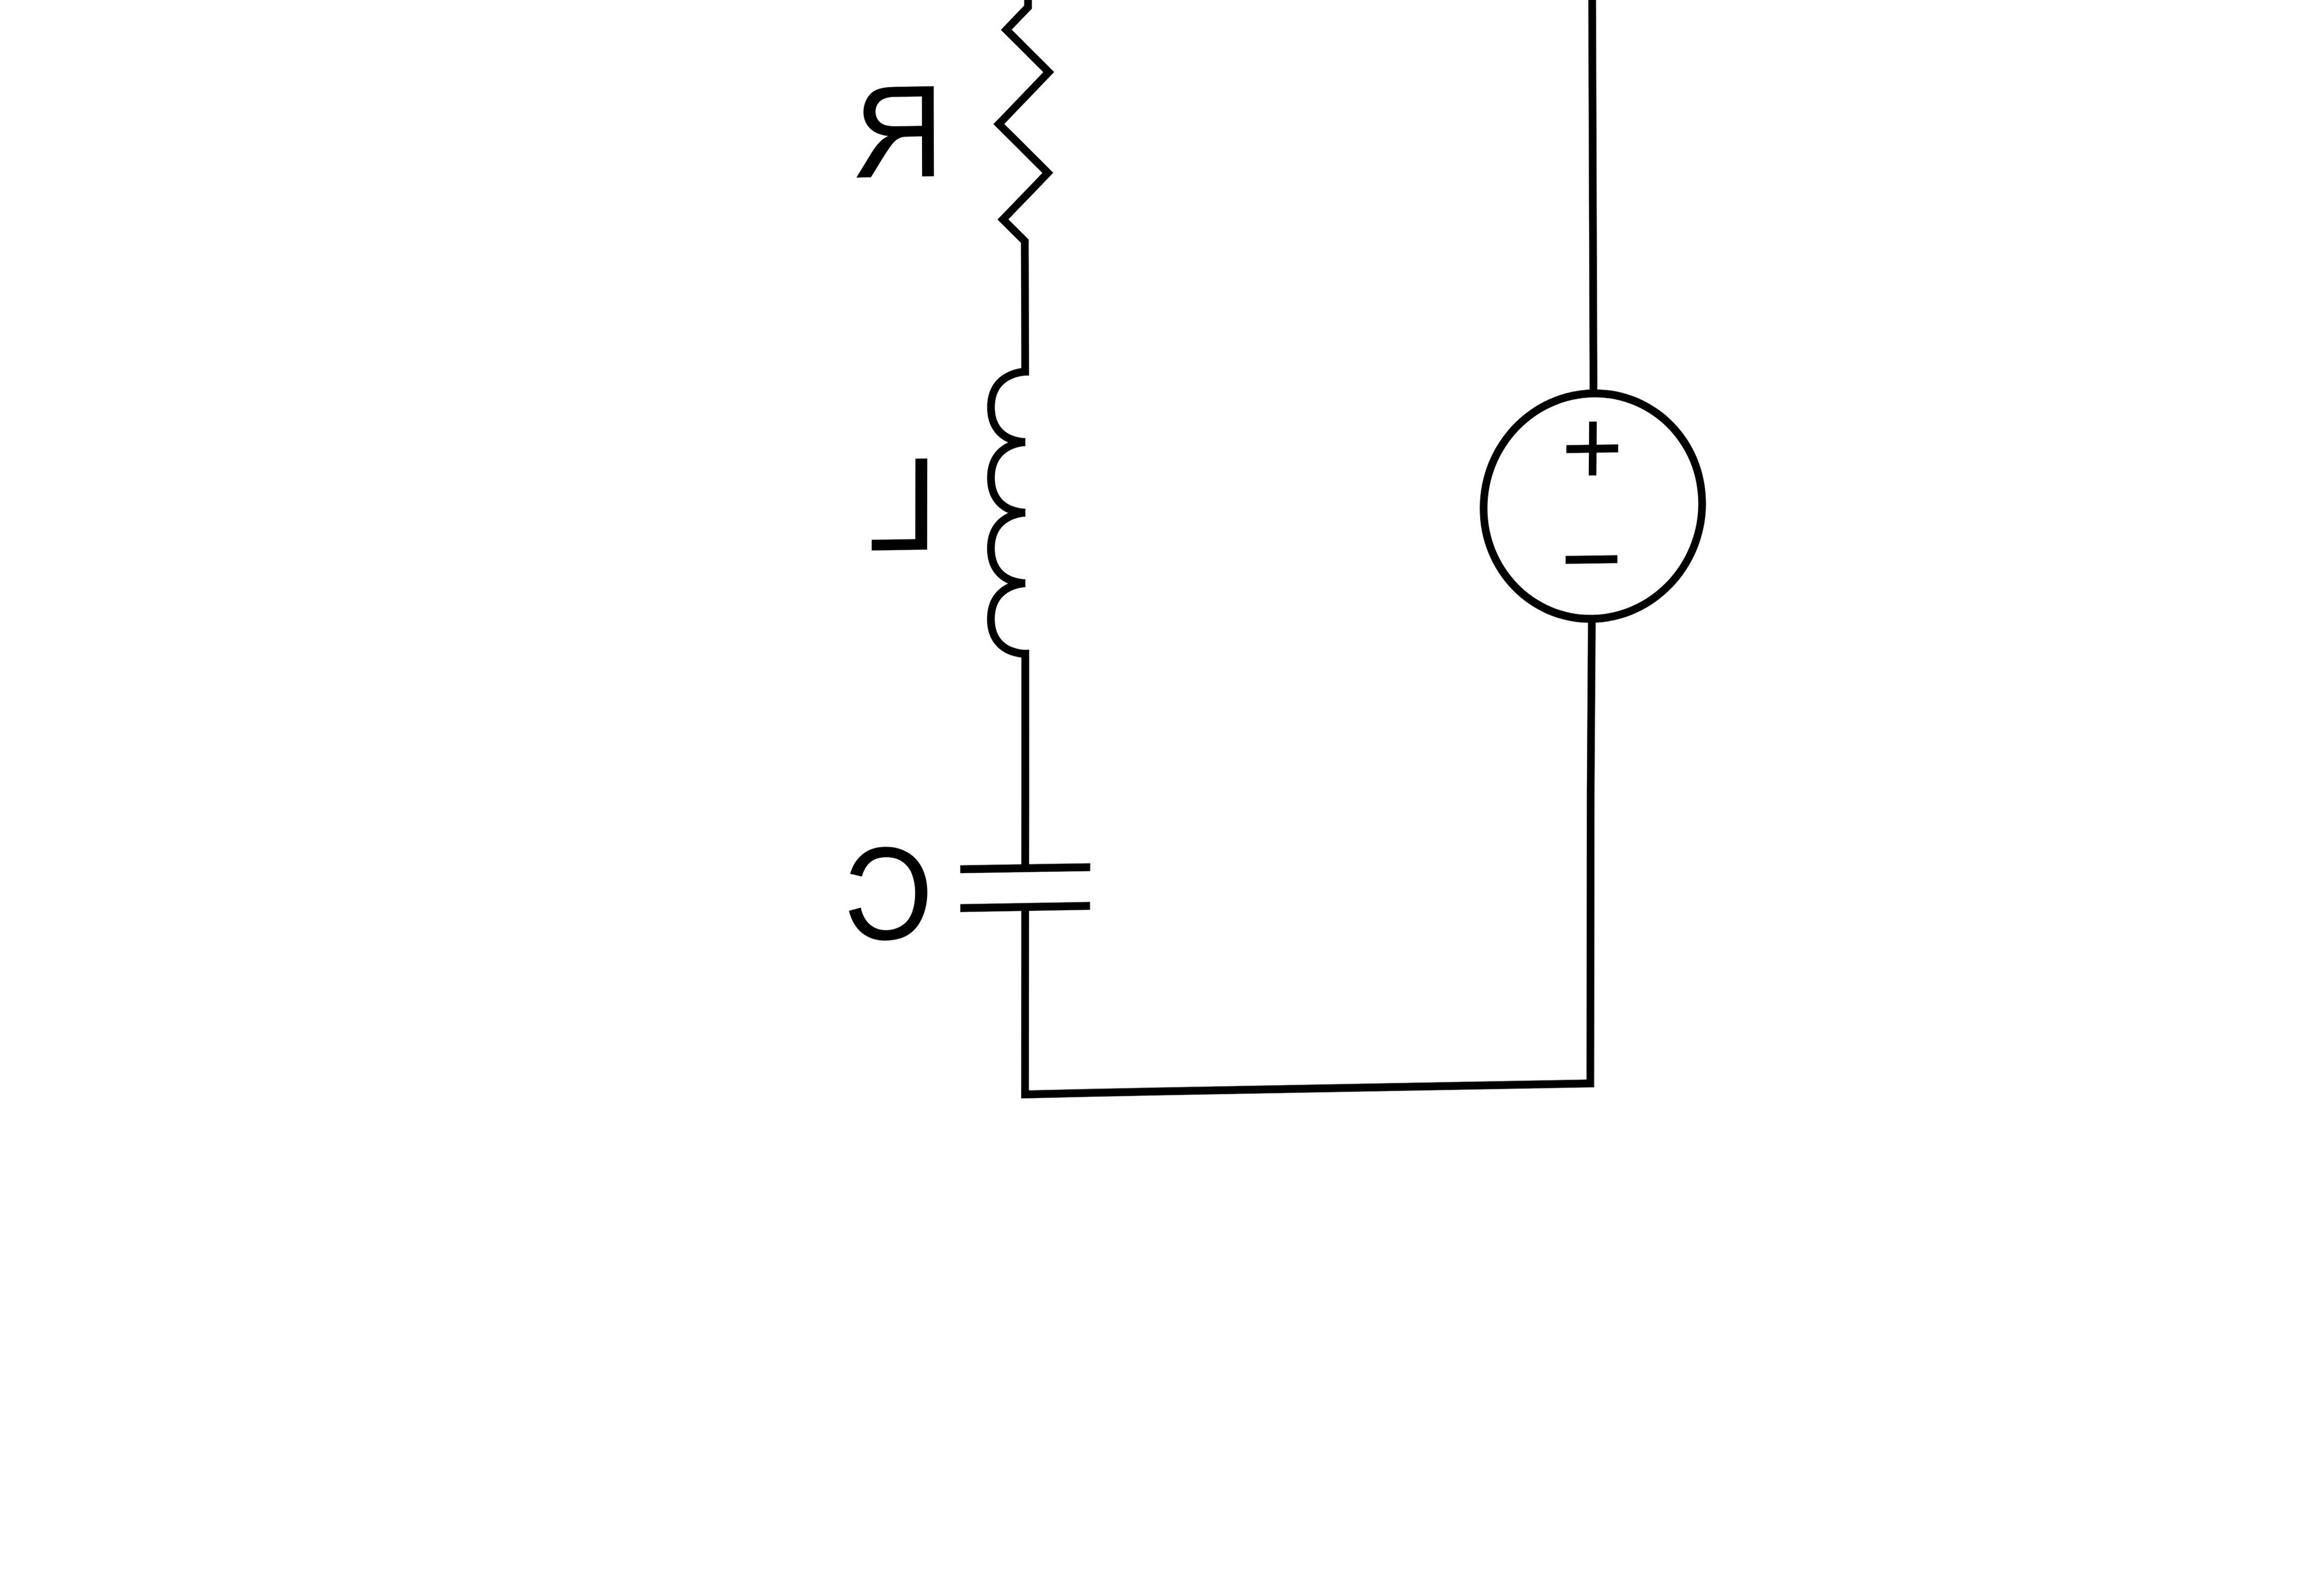Battery: (1420, 336, 1782, 690)
